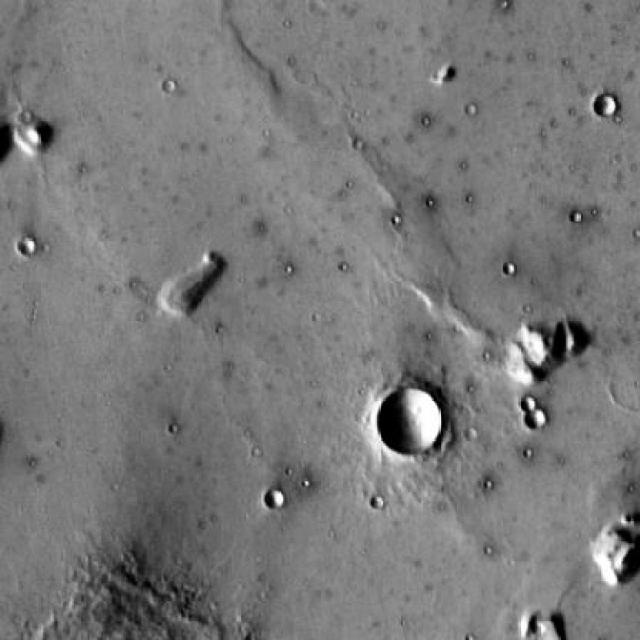crater: (376, 386, 442, 451), (594, 94, 618, 118), (524, 408, 545, 429), (16, 238, 35, 256), (267, 490, 284, 508)
